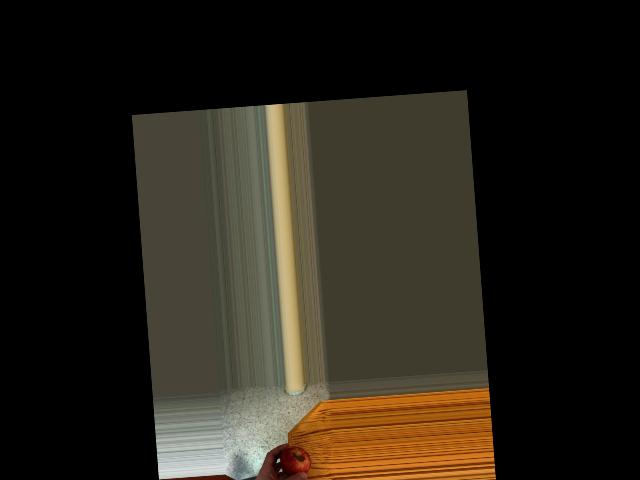apple: (278, 442, 311, 480)
